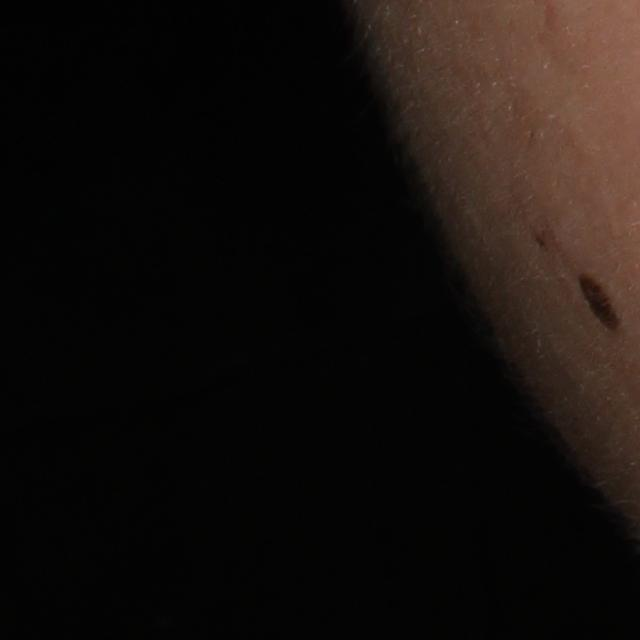nevus: (576, 271, 624, 335)
